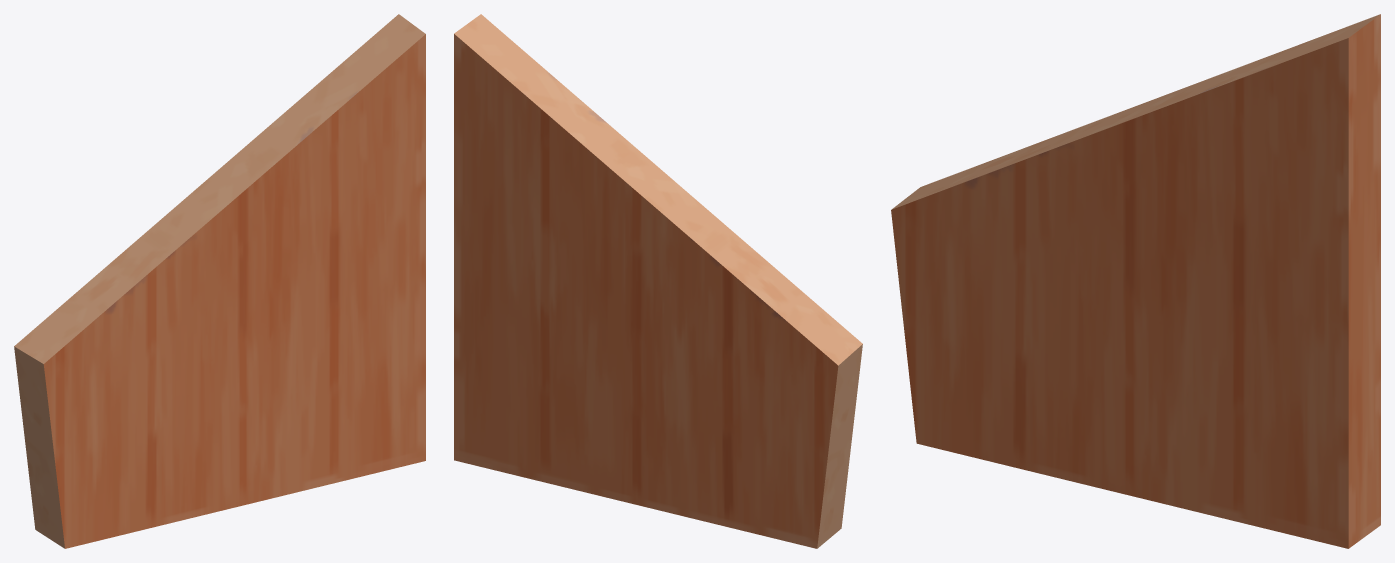
File: door2_wood_s02.fbx
3 renders of one model, left to right at view 1: azimuth 30°, elevation 25°; view 2: azimuth 150°, elevation 25°; view 3: azimuth 330°, elevation 25°, orthographic. The views are drawn at different scales.
Parts seen in each view (by area): view 1: door2_wood_s02; view 2: door2_wood_s02; view 3: door2_wood_s02.
Boxes of the visible parts, box(x1,y1,x2,y2) form: door2_wood_s02: box(14, 14, 425, 548); door2_wood_s02: box(454, 14, 862, 548); door2_wood_s02: box(891, 14, 1380, 548).
Size of the model in its own units: 2.29 by 2.43 by 0.28.
